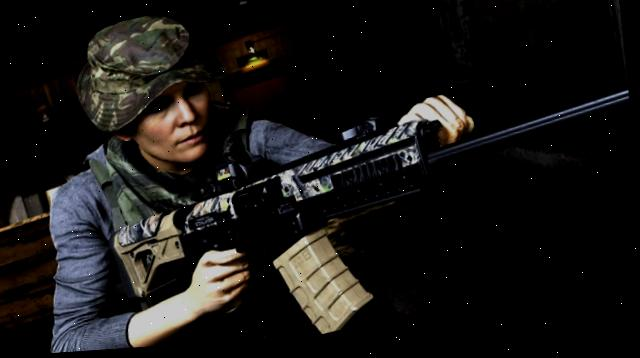rifle: (87, 67, 635, 353)
